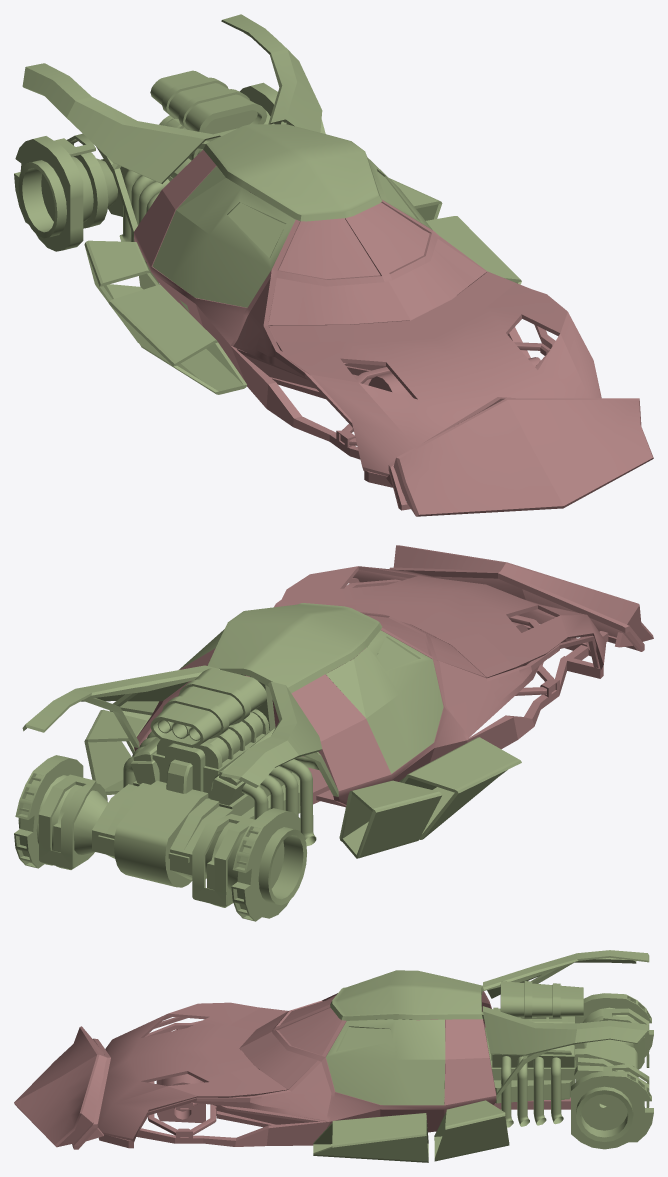
Rendered from mikkoCarUV.fbx.
3 views of the same model, one above another, from view 1: azimuth 30°, elevation 25°; view 2: azimuth 150°, elevation 25°; view 3: azimuth 270°, elevation 25° (orthographic). The views are drawn at different scales.
Visible parts, largest first — view 1: hood_low, chasis_low, frontBumber_low, r_door_low, r_sideWing_low, backAxis_low, windows_low, upperHood_low, r_backWing_low, engine_low, l_backWing_low, l_sideWing_low (+4 smaller); view 2: chasis_low, backAxis_low, hood_low, engine_low, r_sideWing_low, r_door_low, frontBumber_low, fender_low, r_backWing_low, l_sideWing_low, l_backWing_low, windows_low (+5 smaller); view 3: chasis_low, hood_low, backAxis_low, l_door_low, l_sideWing_low, frontBumber_low, engine_low, l_backWing_low, windows_low, upperHood_low, frontAxel_low, lowerBody_low (+5 smaller).
Boxes of the visible parts, <box> form: hood_low: <box>269,272,601,476</box>; chasis_low: <box>134,124,555,487</box>; frontBumber_low: <box>386,397,653,516</box>; r_door_low: <box>152,166,295,307</box>; r_sideWing_low: <box>84,240,246,394</box>; backAxis_low: <box>14,82,281,251</box>; windows_low: <box>228,172,429,279</box>; upperHood_low: <box>268,239,486,327</box>; r_backWing_low: <box>22,63,220,183</box>; engine_low: <box>119,70,267,264</box>; l_backWing_low: <box>221,14,322,132</box>; l_sideWing_low: <box>389,178,521,284</box>; chasis_low: <box>134,578,603,805</box>; backAxis_low: <box>14,755,306,921</box>; hood_low: <box>278,566,606,677</box>; engine_low: <box>123,668,316,845</box>; r_sideWing_low: <box>339,737,521,858</box>; r_door_low: <box>325,630,443,773</box>; frontBumber_low: <box>389,545,653,660</box>; fender_low: <box>38,774,254,906</box>; r_backWing_low: <box>221,681,322,787</box>; l_sideWing_low: <box>84,701,158,794</box>; l_backWing_low: <box>22,665,219,732</box>; windows_low: <box>366,615,428,670</box>; chasis_low: <box>98,970,496,1148</box>; hood_low: <box>98,1002,287,1141</box>; backAxis_low: <box>571,993,653,1149</box>; l_door_low: <box>326,1019,445,1105</box>; l_sideWing_low: <box>313,1100,509,1162</box>; frontBumber_low: <box>14,1026,110,1149</box>; engine_low: <box>491,981,586,1127</box>; l_backWing_low: <box>483,1006,649,1055</box>; windows_low: <box>278,995,392,1055</box>; upperHood_low: <box>240,1011,317,1089</box>; frontAxel_low: <box>148,1029,216,1138</box>; lowerBody_low: <box>213,1050,570,1127</box>.
Size of the model in its own units: 176 by 82.98 by 379.
